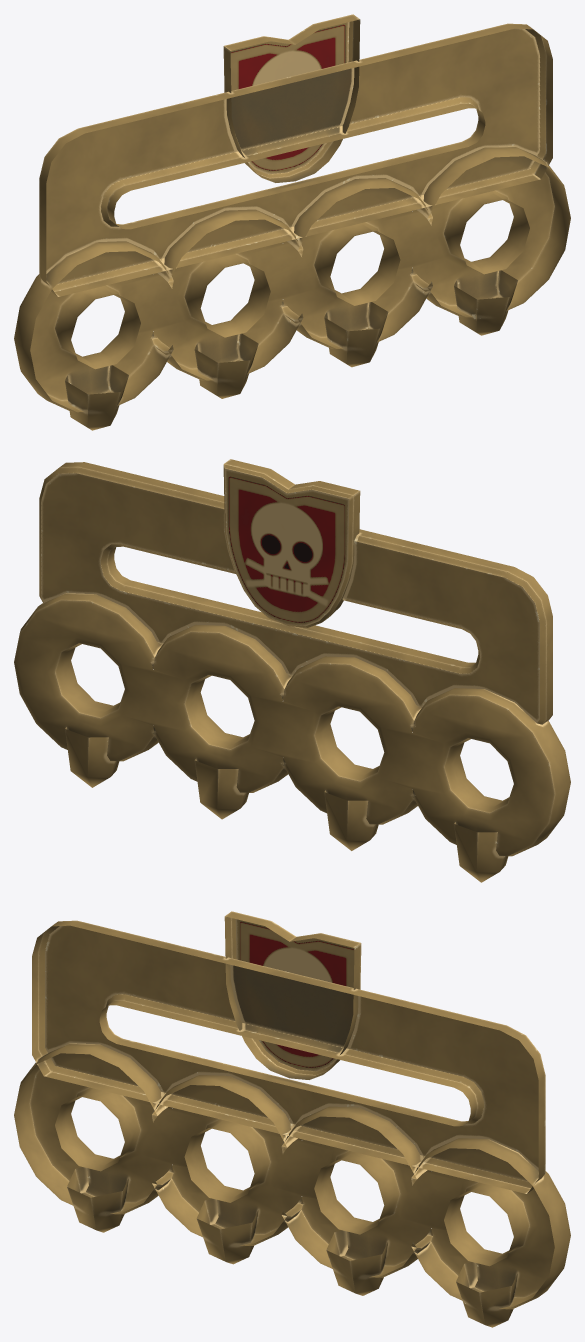
Rendered from NHGear_BrassKnuckles.fbx.
The picture shows the model from 3 angles, top to bottom: view 1: azimuth 30°, elevation 25°; view 2: azimuth 150°, elevation 25°; view 3: azimuth 330°, elevation 25°; orthographic projection.
Visible parts, largest first — view 1: NHGear_BrassKnuckles; view 2: NHGear_BrassKnuckles; view 3: NHGear_BrassKnuckles.
Part boxes in pixels (<box>): NHGear_BrassKnuckles: <box>14,14,570,430</box>; NHGear_BrassKnuckles: <box>14,459,570,882</box>; NHGear_BrassKnuckles: <box>14,911,570,1327</box>.
Size of the model in its own units: 1.09 by 0.6788 by 0.1106.
1 material, 1 textured.
